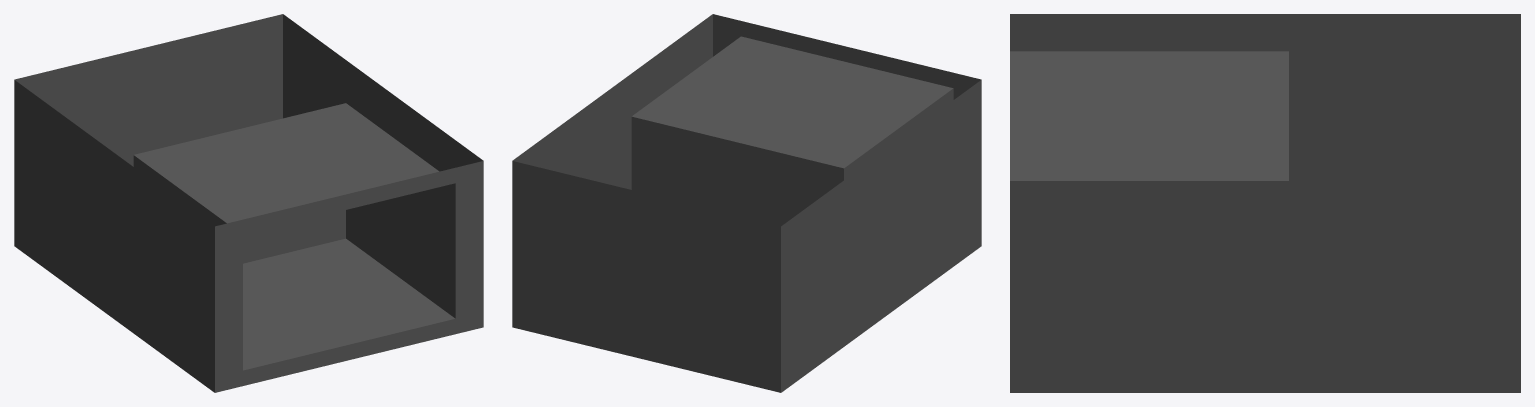
File: Itr_Desk_Drawer_Bottom_04.FBX
3 renders of one model, left to right at view 1: azimuth 30°, elevation 25°; view 2: azimuth 150°, elevation 25°; view 3: azimuth 270°, elevation 25°, orthographic. The views are drawn at different scales.
Parts seen in each view (by area): view 1: Itr_Desk_Drawer_Bottom_04; view 2: Itr_Desk_Drawer_Bottom_04; view 3: Itr_Desk_Drawer_Bottom_04.
Boxes of the visible parts, left/top/right/bottom form: Itr_Desk_Drawer_Bottom_04: left=14, top=14, right=483, bottom=392; Itr_Desk_Drawer_Bottom_04: left=512, top=14, right=981, bottom=392; Itr_Desk_Drawer_Bottom_04: left=1010, top=14, right=1520, bottom=392.
Bounding box in the file's own units: 18.22 × 10.79 × 23.55.
